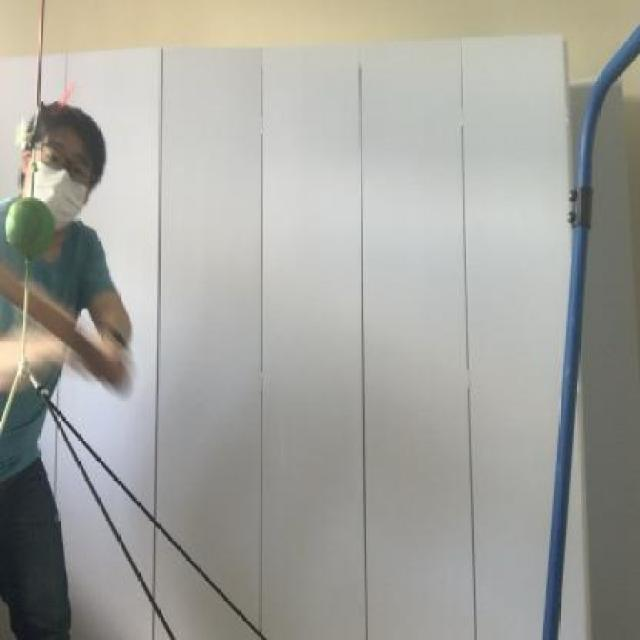baseball: (2, 194, 58, 266)
